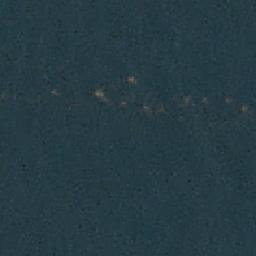debris: (175, 88, 206, 107), (141, 99, 167, 117), (94, 88, 114, 109), (225, 96, 247, 114), (126, 76, 138, 87)
